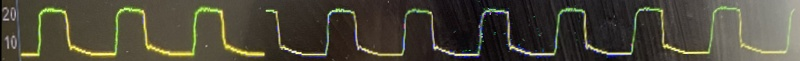normal_pressure: (20, 0, 800, 61)
